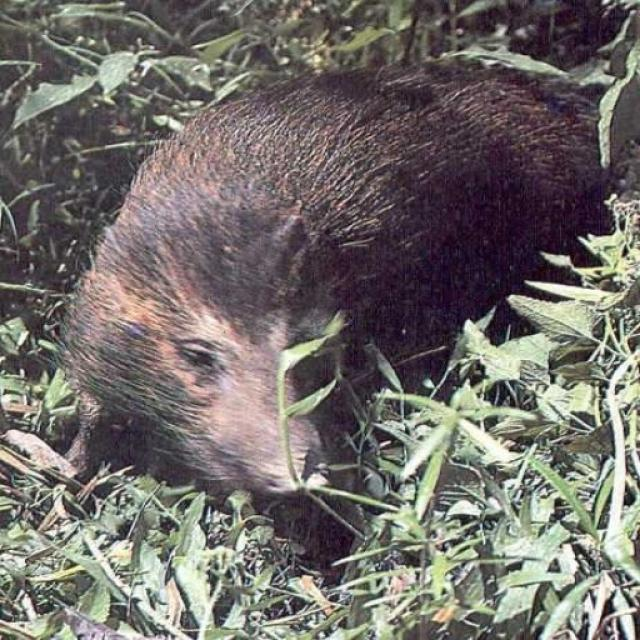pig: (77, 52, 617, 557)
